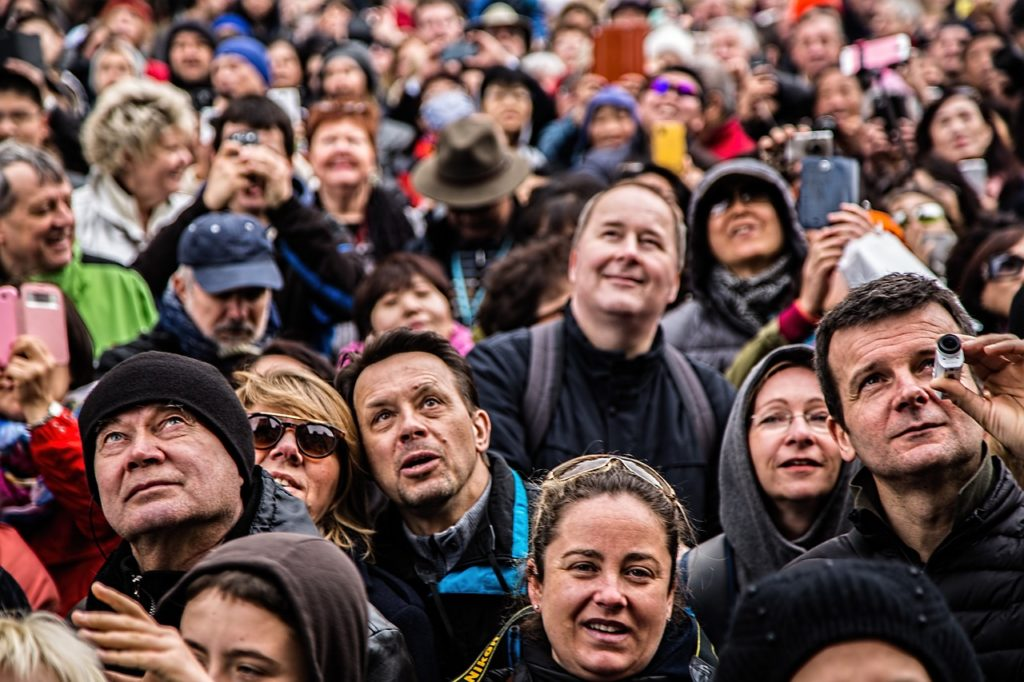without_mask: (563, 541, 656, 667), (99, 416, 216, 512), (248, 400, 338, 511), (758, 384, 840, 498), (365, 390, 457, 490), (593, 213, 673, 316), (116, 101, 191, 191), (9, 181, 73, 266), (710, 183, 781, 254), (201, 271, 263, 345), (373, 278, 442, 338), (315, 124, 368, 181)
